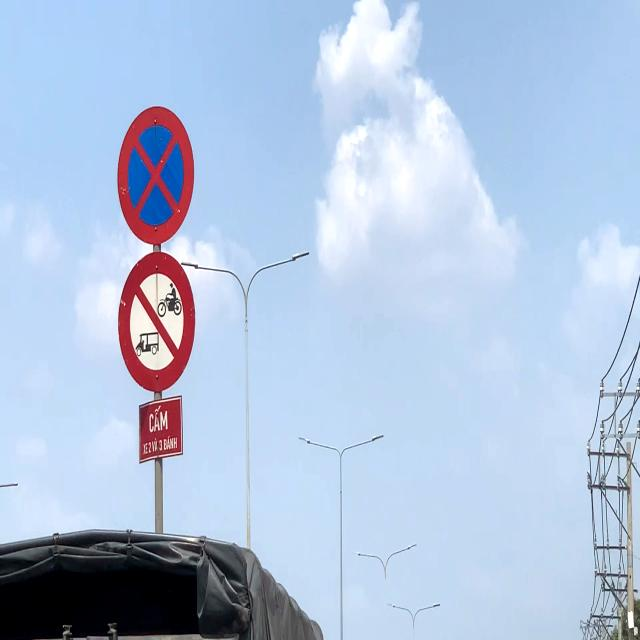P.130: (114, 102, 197, 250)
